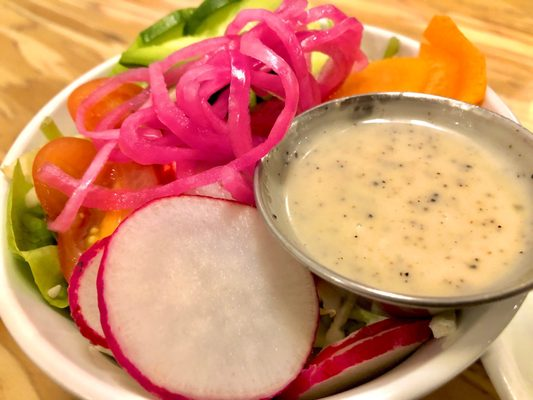sushi: (253, 92, 533, 310)
